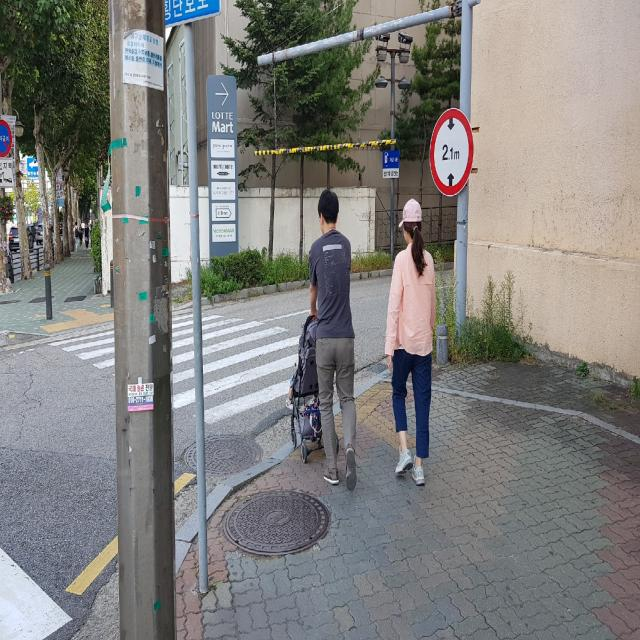횡단보도: (45, 310, 337, 429)
